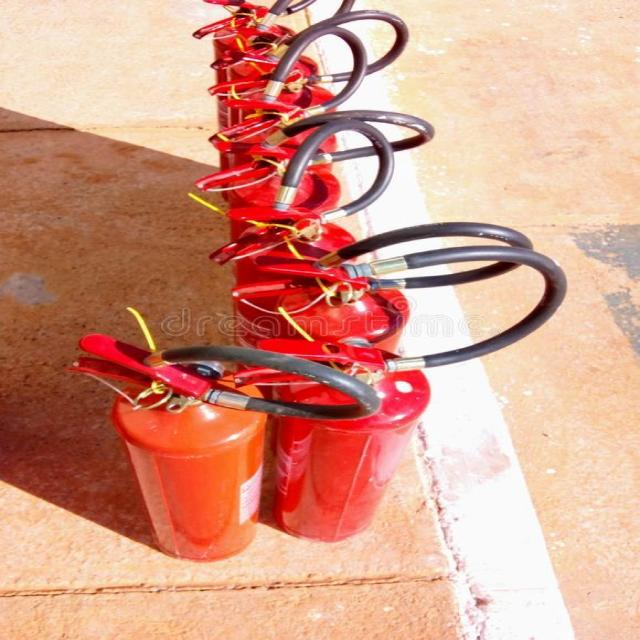fire_extinguisher: (238, 243, 586, 544), (219, 217, 546, 481), (64, 329, 385, 565), (209, 117, 432, 438)
